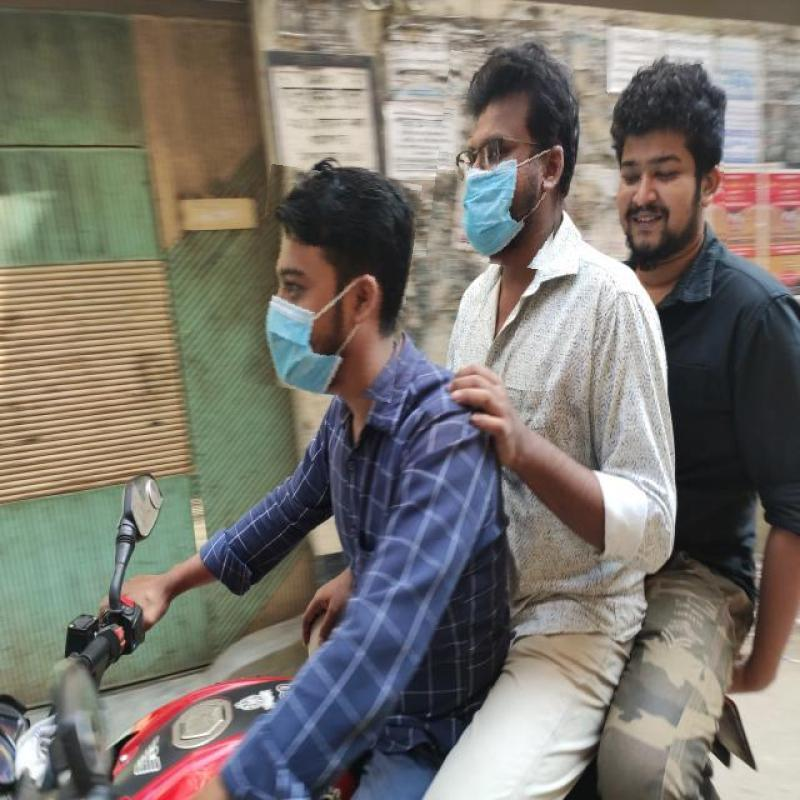nohelmet: (248, 169, 415, 398), (432, 53, 568, 268), (608, 65, 726, 261)
